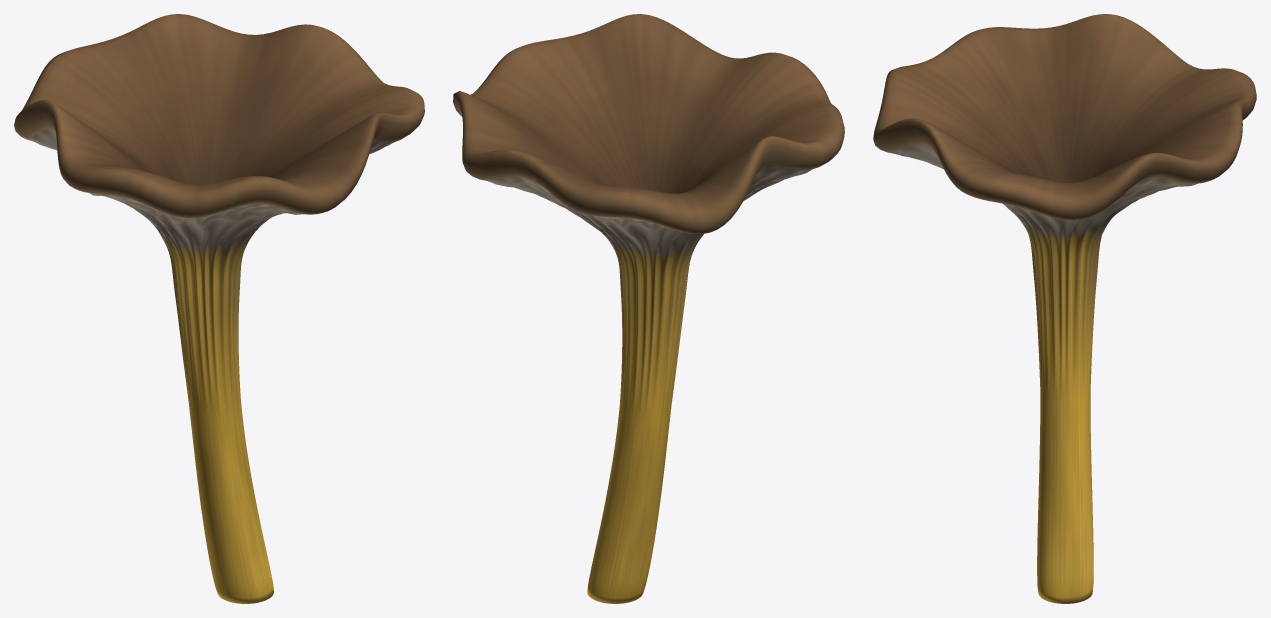
File: craterellus-tubaeformis-agg-drawn.glb
3 views of the same model, side by side, from view 1: azimuth 30°, elevation 25°; view 2: azimuth 150°, elevation 25°; view 3: azimuth 270°, elevation 25° (orthographic). The views are drawn at different scales.
Bounding box in the file's own units: 0.6101 × 0.8746 × 0.6097.
Materials: 1 (1 with a texture image).
